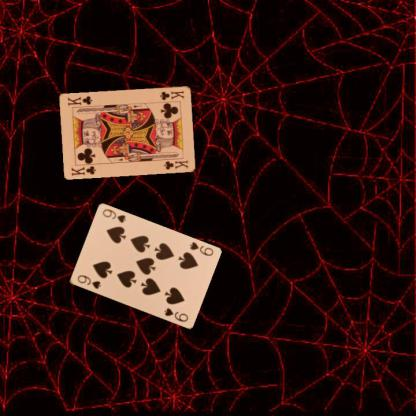9s: (75, 272, 102, 290), (187, 239, 214, 257)
Kc: (69, 163, 97, 177), (157, 88, 185, 101)
